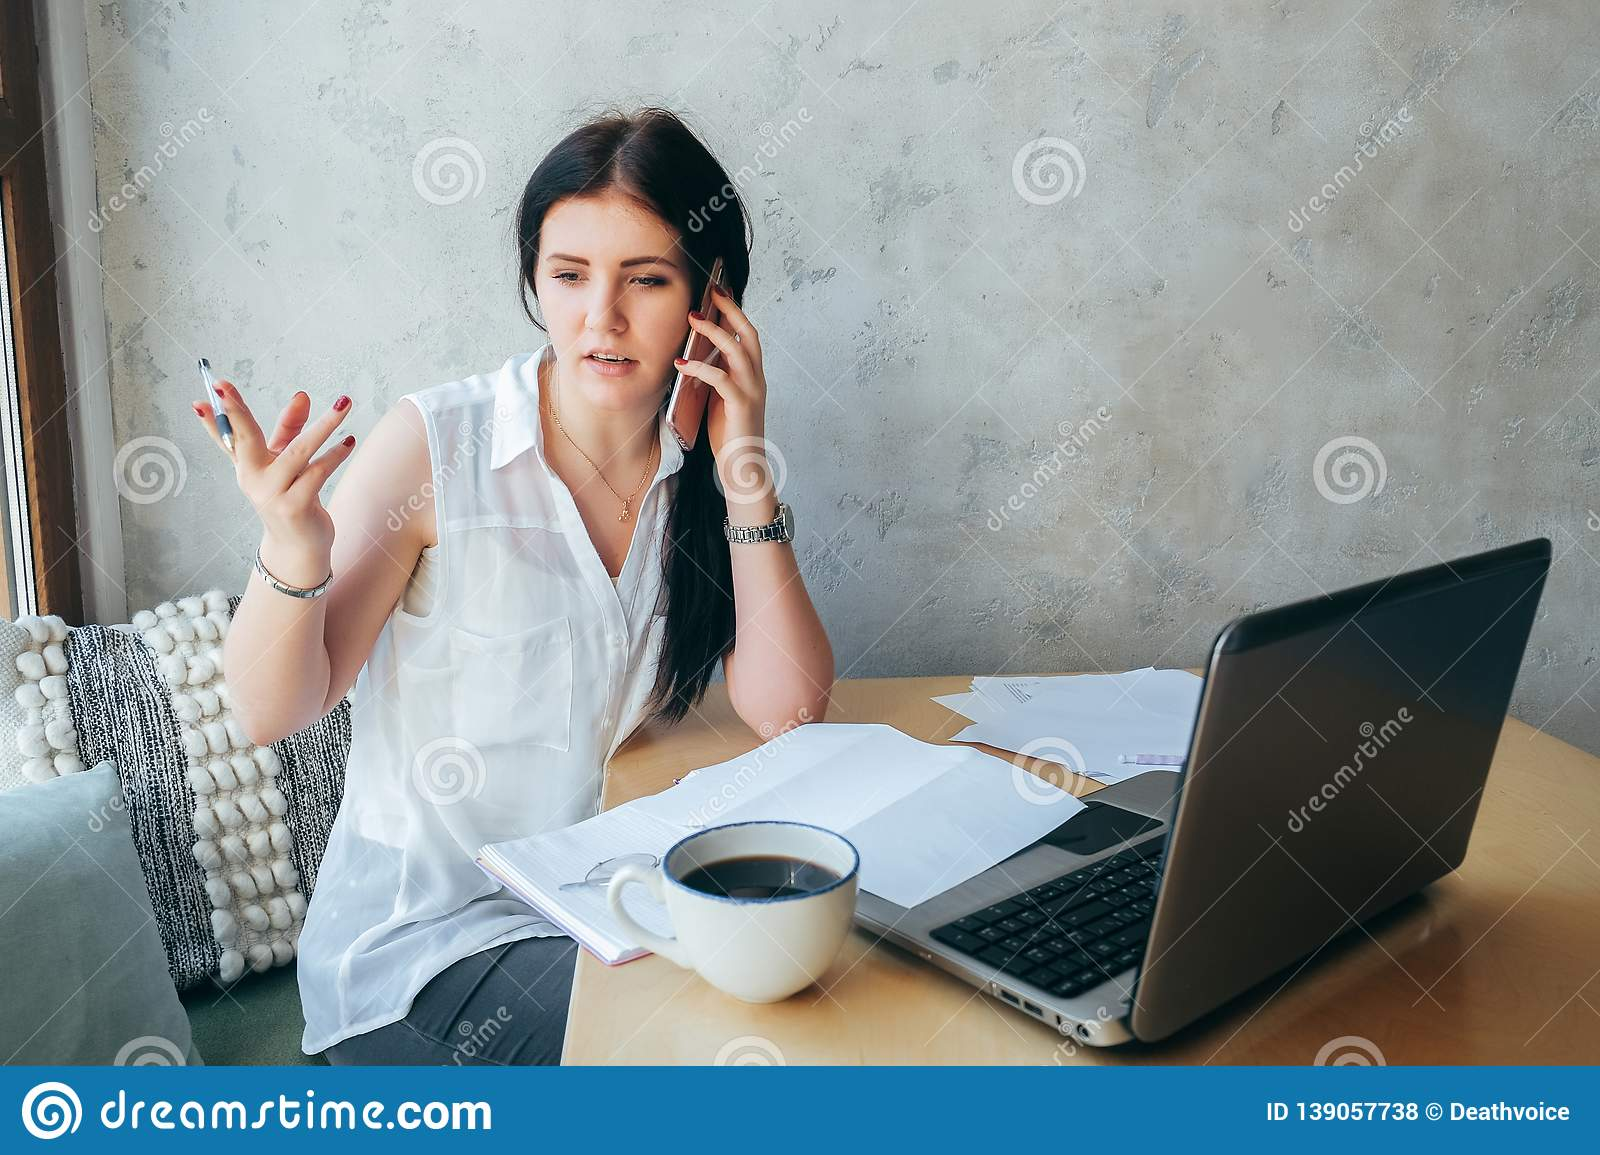phone: (665, 257, 738, 456)
talk: (538, 246, 769, 486)
